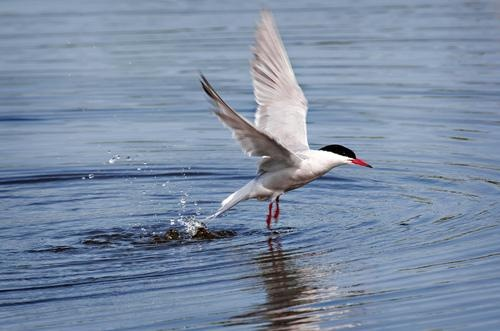bird: (197, 2, 373, 226)
